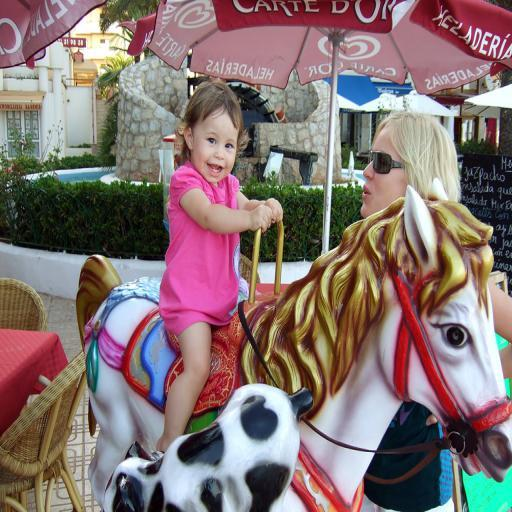Horse: (74, 184, 512, 512)
